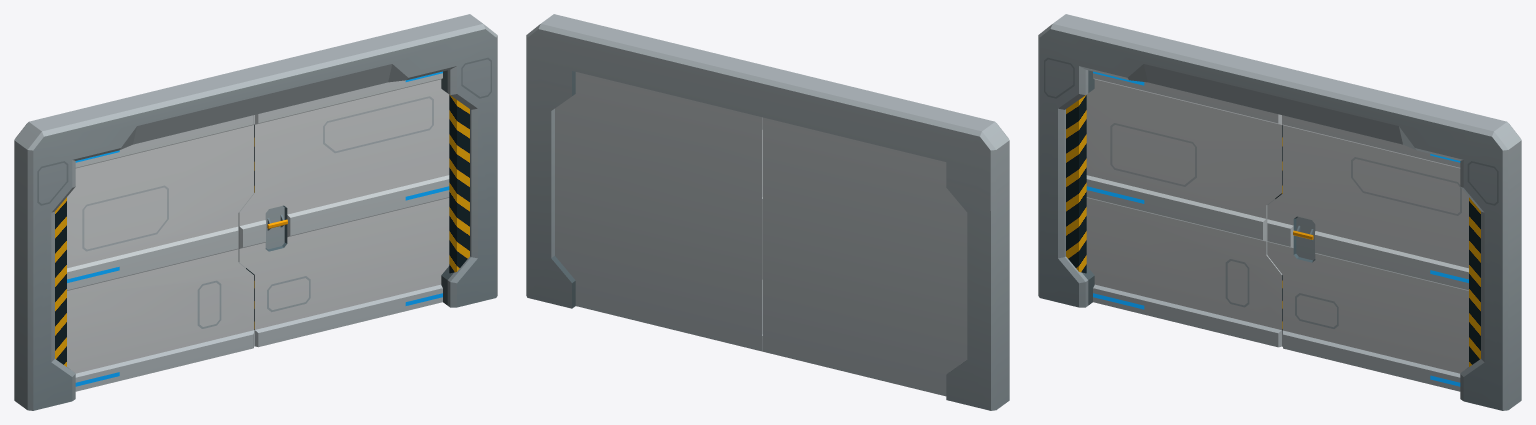
The model's file is Door_010.glb.
3 renders of one model, left to right at view 1: azimuth 30°, elevation 25°; view 2: azimuth 150°, elevation 25°; view 3: azimuth 330°, elevation 25°, orthographic.
Parts seen in each view (by area): view 1: Door_010, Door_panel_017, Door_panel_018; view 2: Door_panel_017, Door_panel_018, Door_010; view 3: Door_010, Door_panel_018, Door_panel_017.
Part boxes in pixels (x1=…): Door_010: x1=14, y1=14, x2=497, y2=410; Door_panel_017: x1=238, y1=71, x2=449, y2=347; Door_panel_018: x1=67, y1=115, x2=253, y2=391; Door_panel_017: x1=555, y1=72, x2=762, y2=351; Door_panel_018: x1=763, y1=117, x2=967, y2=396; Door_010: x1=526, y1=14, x2=1009, y2=410; Door_010: x1=1038, y1=14, x2=1521, y2=410; Door_panel_018: x1=1086, y1=71, x2=1282, y2=347; Door_panel_017: x1=1267, y1=115, x2=1468, y2=391.
Bounding box in the file's own units: 6 × 3.36 × 0.3858.
Materials: 2 (2 with a texture image).
